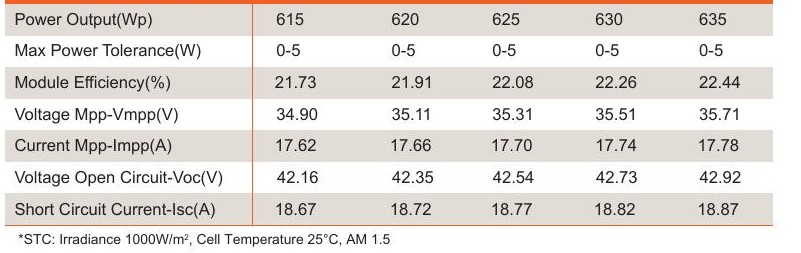table: (2, 2, 783, 229)
table row: (5, 196, 780, 222), (4, 164, 777, 190), (5, 6, 773, 32), (6, 39, 776, 64), (5, 102, 778, 126), (6, 134, 777, 158), (5, 72, 775, 94)
